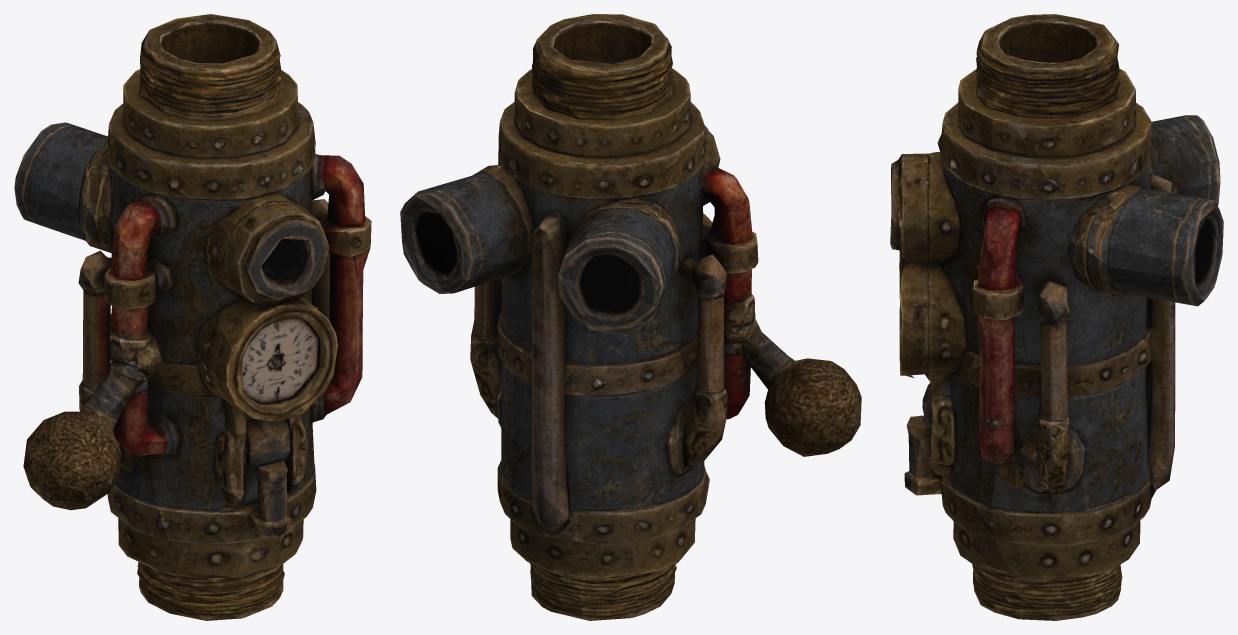
3 views of the same model, side by side, from view 1: azimuth 30°, elevation 25°; view 2: azimuth 150°, elevation 25°; view 3: azimuth 270°, elevation 25° (orthographic).
Visible parts, largest first — view 1: geometry_0; view 2: geometry_0; view 3: geometry_0.
Boxes of the visible parts, left/top/right/bottom form: geometry_0: left=14, top=14, right=371, bottom=620; geometry_0: left=400, top=14, right=861, bottom=620; geometry_0: left=890, top=14, right=1223, bottom=620.
Bounding box in the file's own units: 0.6609 × 1 × 0.5436.
Materials: 1 (1 with a texture image).
